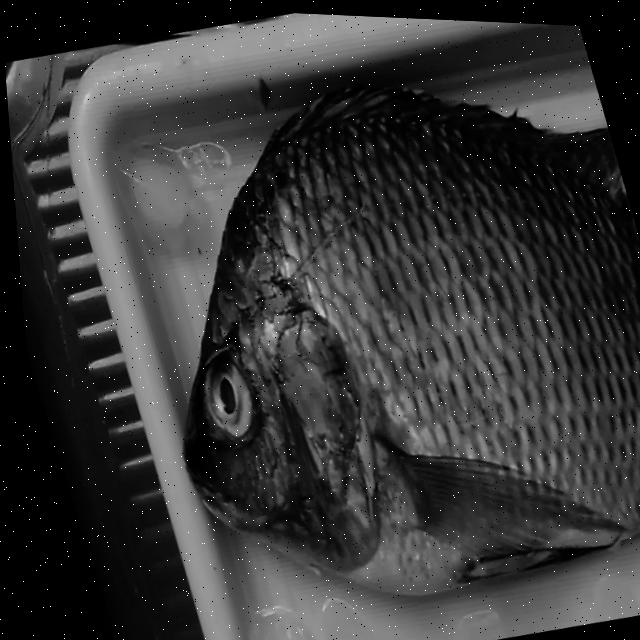Fresh: (194, 48, 640, 613), (184, 344, 259, 449)
